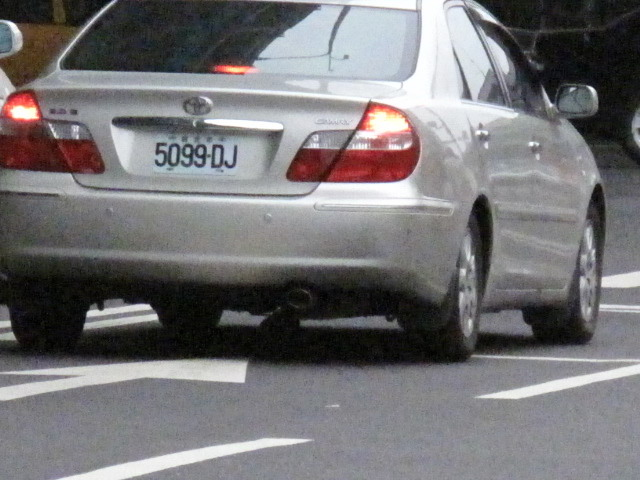plate: (153, 128, 242, 177)
